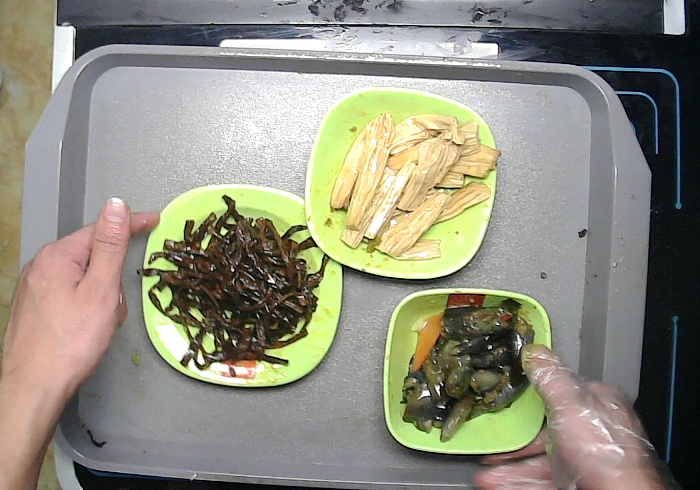SHKJ-Lv_Se_Cai_Die: (302, 84, 500, 284)
SHKJ-Lv_Se_Si_Fang_Cai_Die: (139, 181, 346, 392)
SHKJ-Lv_Se_Xiao_Fang_Die: (377, 283, 554, 458)
